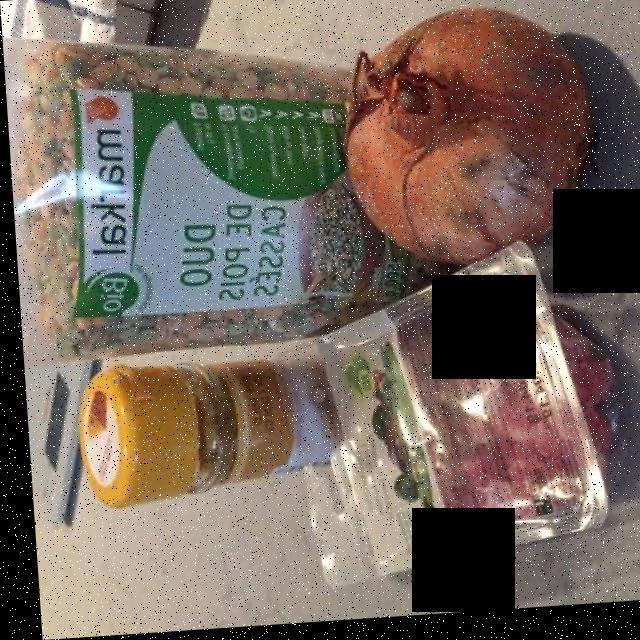onion: (342, 4, 593, 269)
